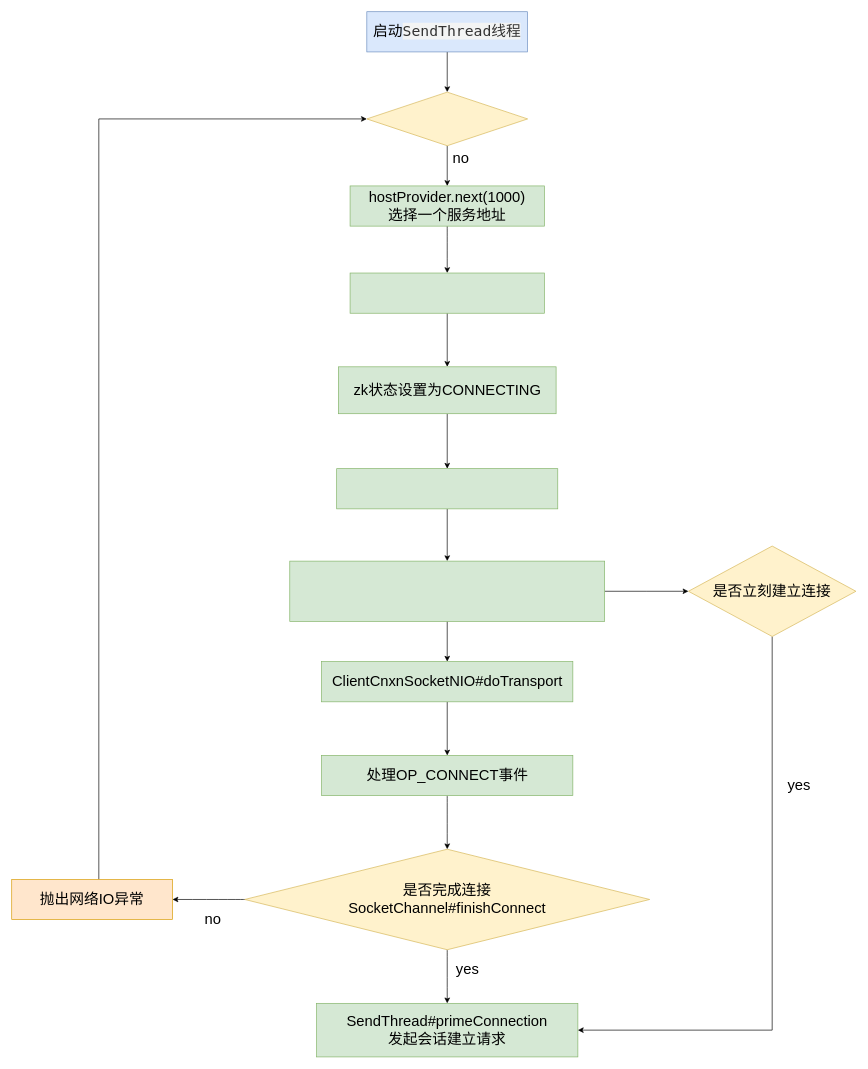
Image size: 868x1069. Some labels were removed from this diagram. The box of each missing label's shape, as (x1, y1, x2, y2) in pixels:
ClientCnxnSocketNIO#connect: (336, 468, 558, 509)
ClientCnxnSocketNIO#registerAndConnect 注册OP_CONNECT事件 非阻塞发起连接: (289, 560, 605, 621)
SendThread#startConnect 向服务端发起连接: (349, 272, 544, 313)
是否已建立连接: (366, 91, 528, 146)
